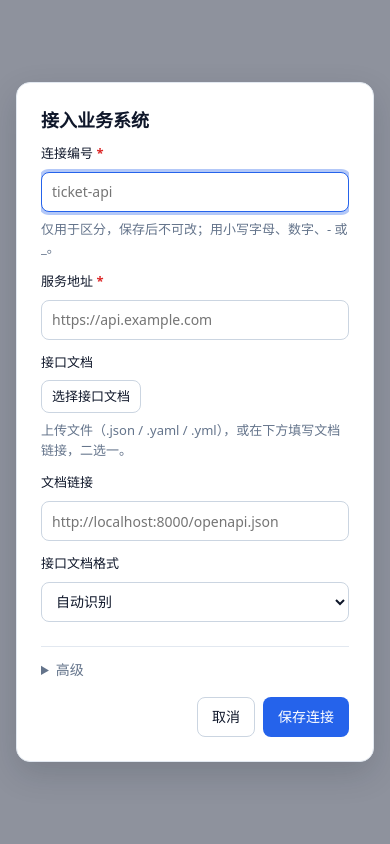
ConnectorEditorModal › validates required fields before saving
Click the button "保存连接" at (306, 717), box [263,697,349,737]
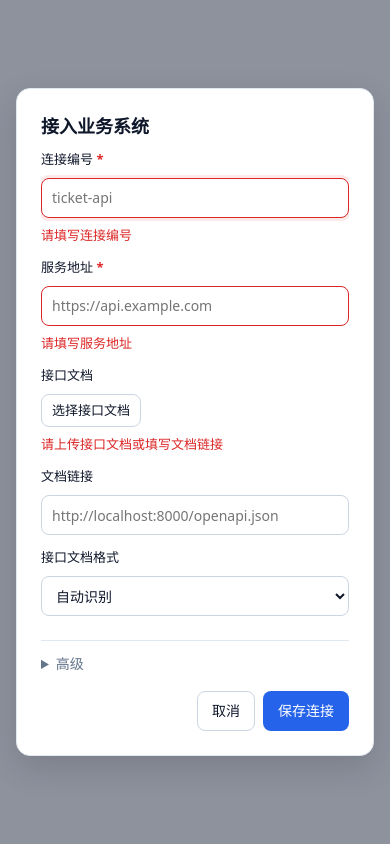
Result: the text "请填写连接编号" is shown at [41,226,132,244]
Result: the text "请填写服务地址" is shown at [41,334,132,352]
